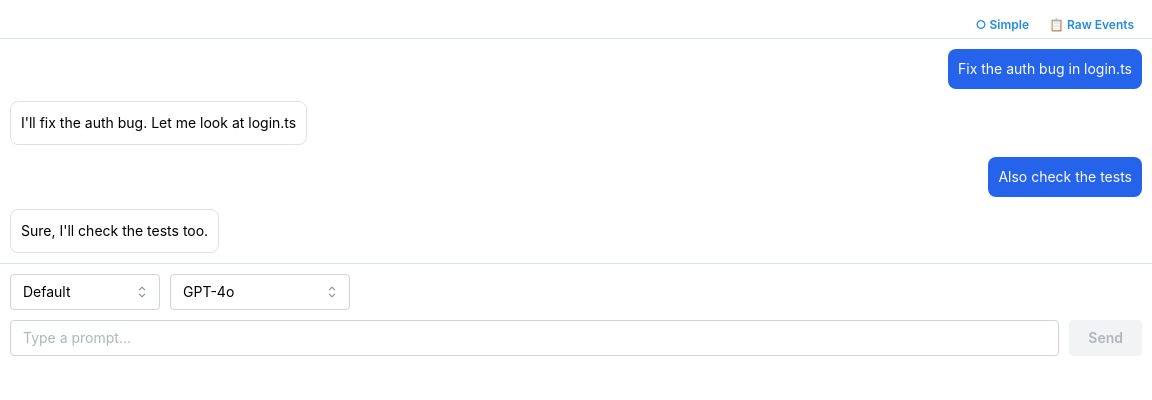
Test: CopilotConversation › shows loading state while sending
Type "hello" into the field with placeholder "Type a prompt…" at [535, 338], box [10,320,1059,356]
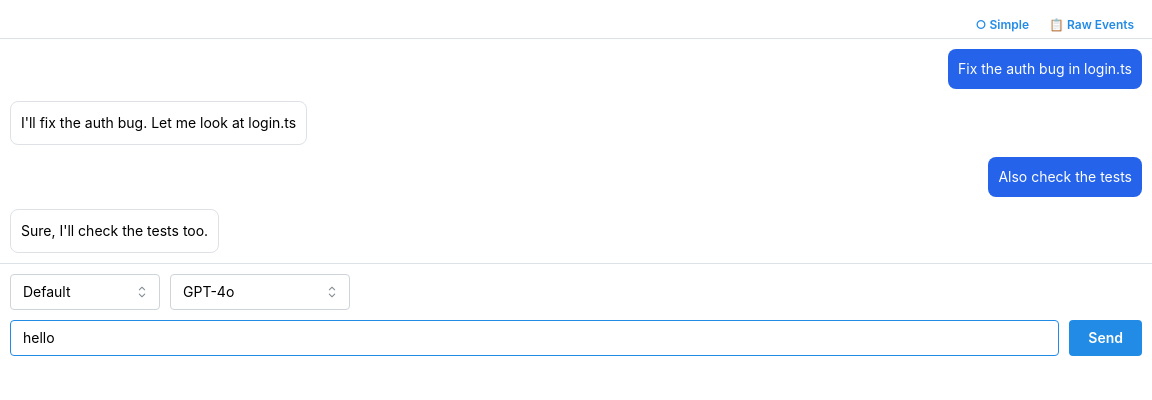
Click the button with test id "send-button" at [1106, 338], box [1069,320,1142,356]
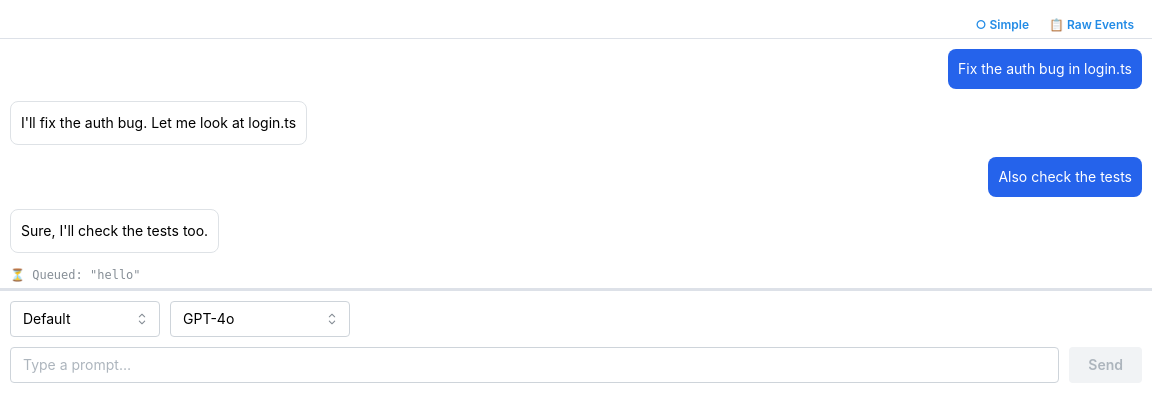
Result: the button with test id "send-button" is disabled at [1069,347,1142,383]
